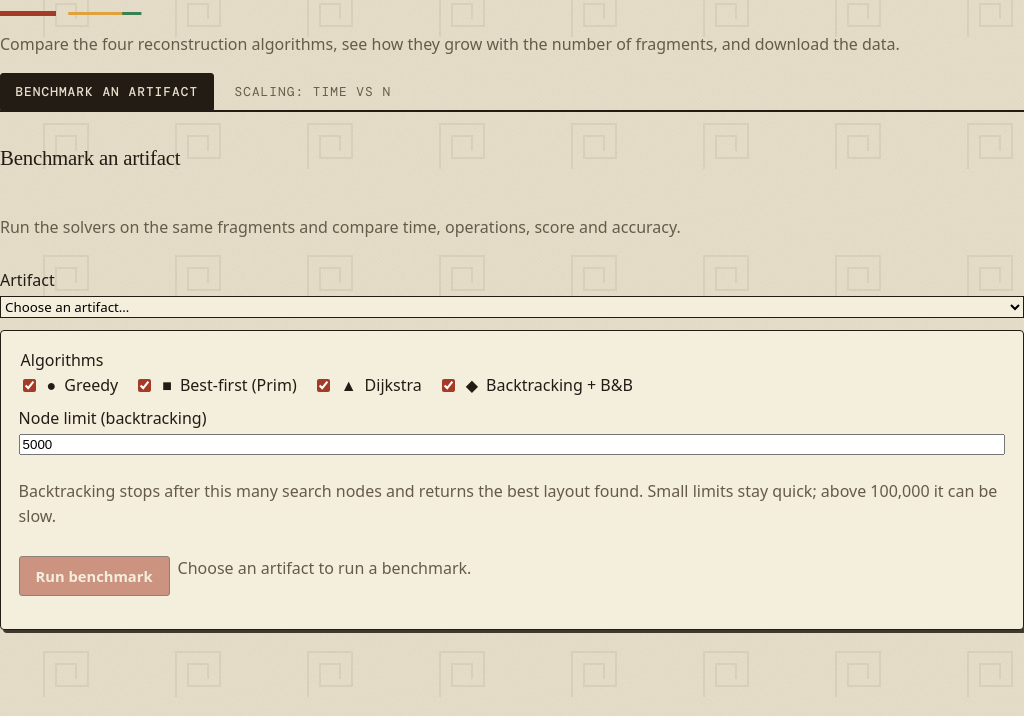
LabPage: benchmark › shows — for null accuracies from the API
Select "Mughal tile panel (16 fragments)" in the dropdown labelled "Artifact" at (512, 307), box x1=0 y1=296 x2=1023 y2=318
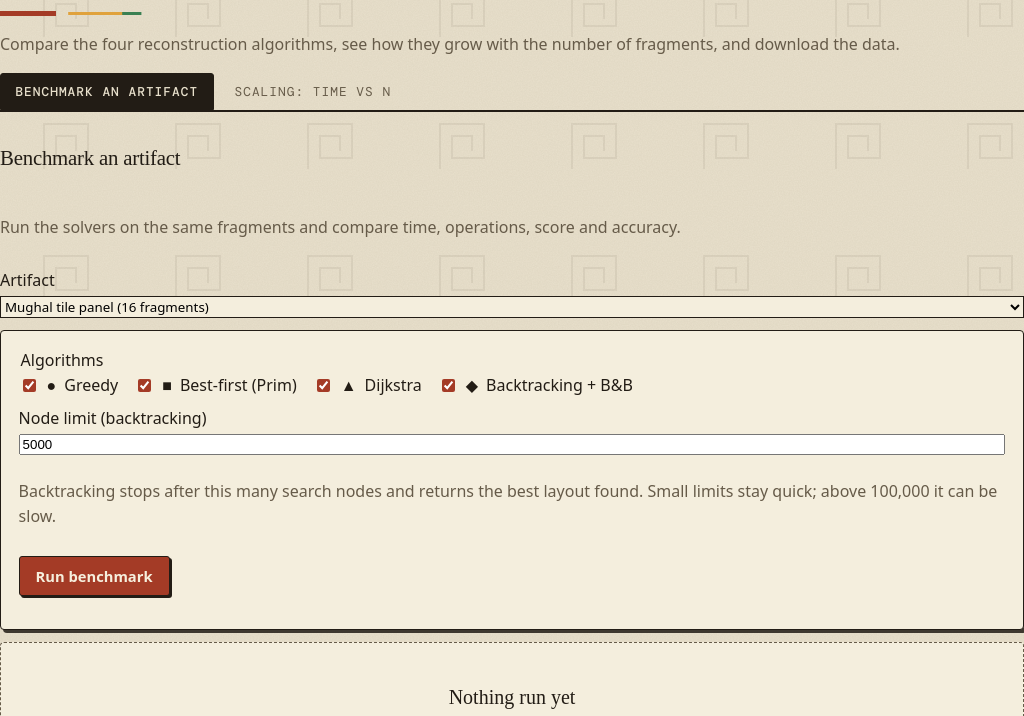
Click the button "Run benchmark" at (94, 576), box x1=19 y1=556 x2=170 y2=596
(page scrolled)
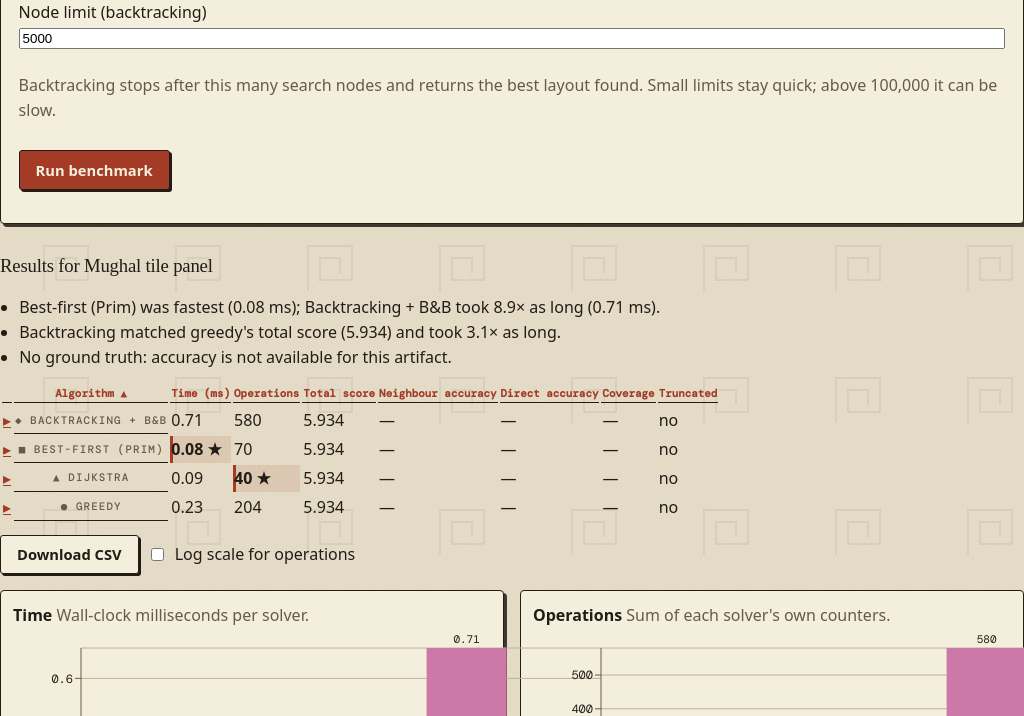
Expected: the list named "Reading of the result" shows "No ground truth", x1=19 y1=346 x2=452 y2=368
